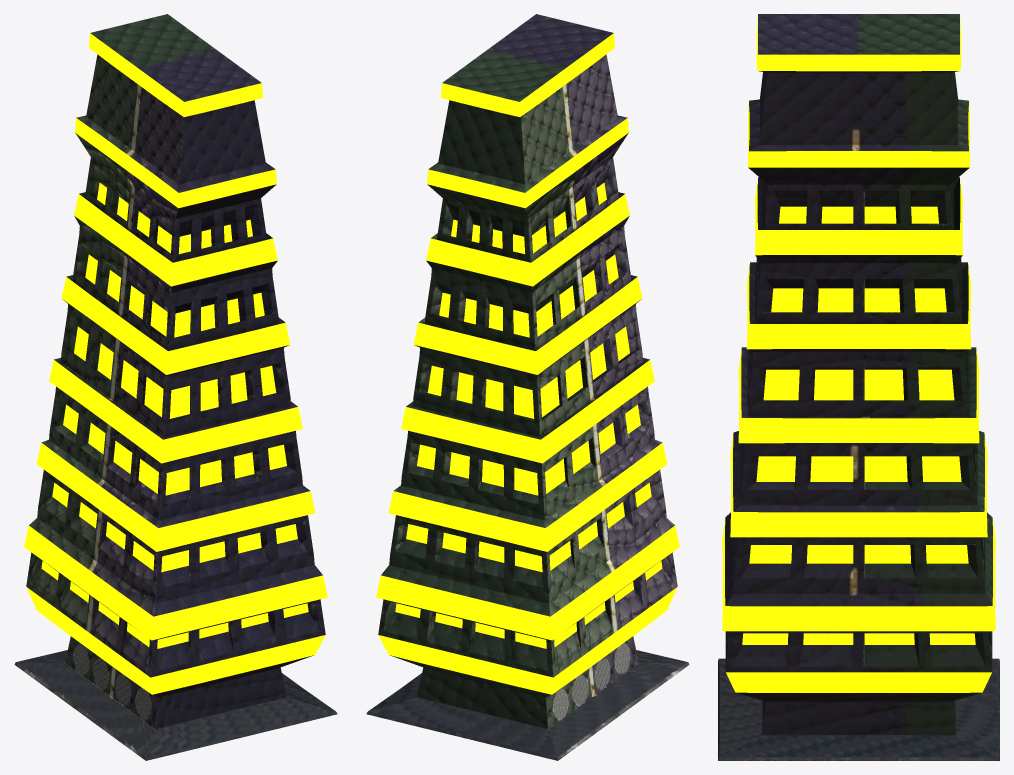
File: track1Building4.glb
3 renders of one model, left to right at view 1: azimuth 30°, elevation 25°; view 2: azimuth 150°, elevation 25°; view 3: azimuth 270°, elevation 25°, orthographic. The views are drawn at different scales.
Visible parts, largest first — view 1: Cube.013; view 2: Cube.013; view 3: Cube.013.
Part boxes in pixels (left/top/right/bottom): Cube.013: left=14, top=14, right=337, bottom=760; Cube.013: left=366, top=14, right=689, bottom=760; Cube.013: left=718, top=14, right=999, bottom=760.
Bounding box in the file's own units: 3.98 × 12.54 × 4.73.
2 materials, 1 textured.
